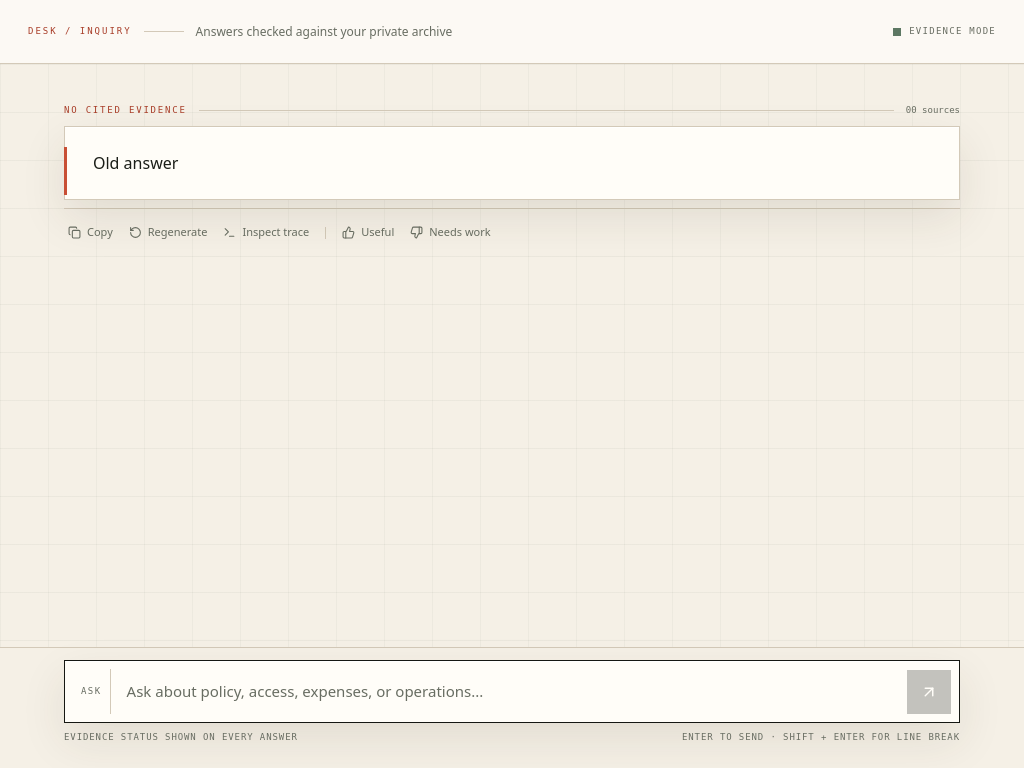
clears the open trace when the selected conversation changes
Check: the text "Old answer" is shown, box [93,152,178,174]
What coordinates should you click on to do the following:
click the button with aria-label "Show RAG trace"
I would click on:
 (266, 232)
Its box is [220,216,313,248].
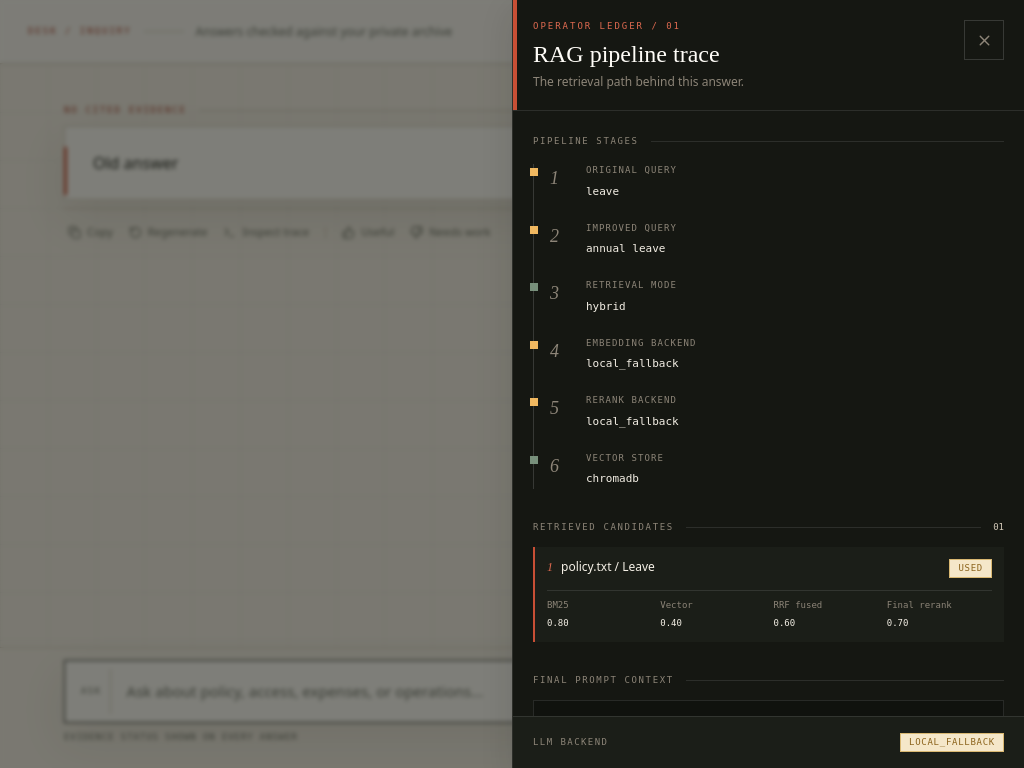
Check: the heading "RAG pipeline trace" is shown, box [533,38,744,70]
